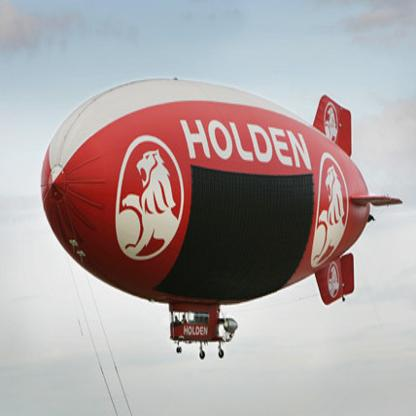Airship: (33, 73, 403, 360)
